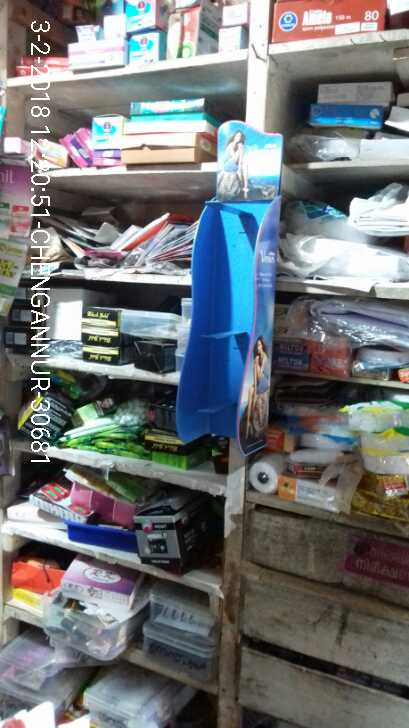reject: (88, 162, 229, 312)
